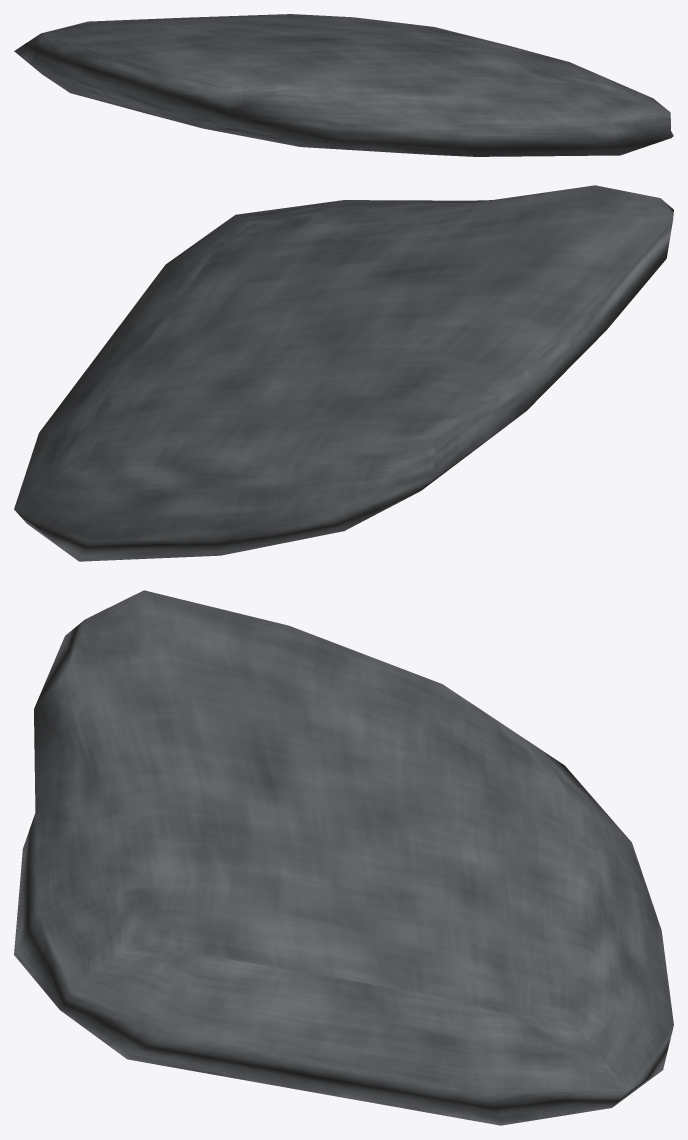
The model's file is Steen 2.fbx.
The picture shows the model from 3 angles, top to bottom: view 1: azimuth 30°, elevation 25°; view 2: azimuth 150°, elevation 25°; view 3: azimuth 270°, elevation 25°; orthographic projection. The views are drawn at different scales.
Visible parts, largest first — view 1: pCube1; view 2: pCube1; view 3: pCube1.
Boxes of the visible parts, x1,y1,x2,y2 form: pCube1: (14, 14, 673, 156); pCube1: (14, 185, 673, 561); pCube1: (14, 590, 673, 1125).
Bounding box in the file's own units: 1.27 × 0.6293 × 1.32.
